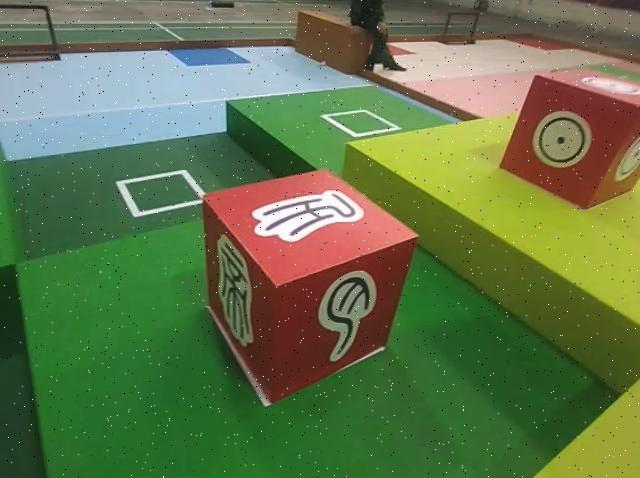R2 Fake: (202, 169, 420, 405)
R2 Real: (500, 68, 640, 208)
